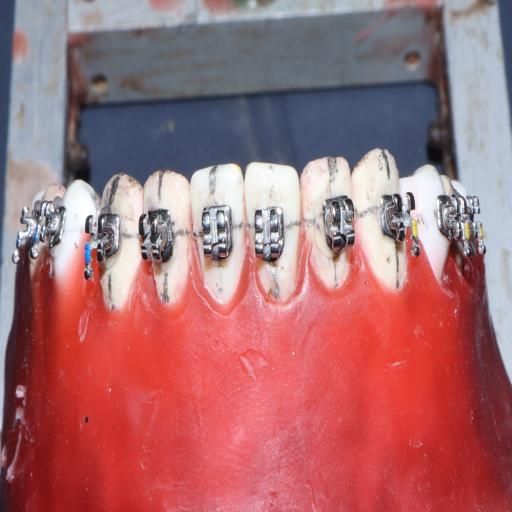incorrect_brace: (250, 202, 288, 268)
